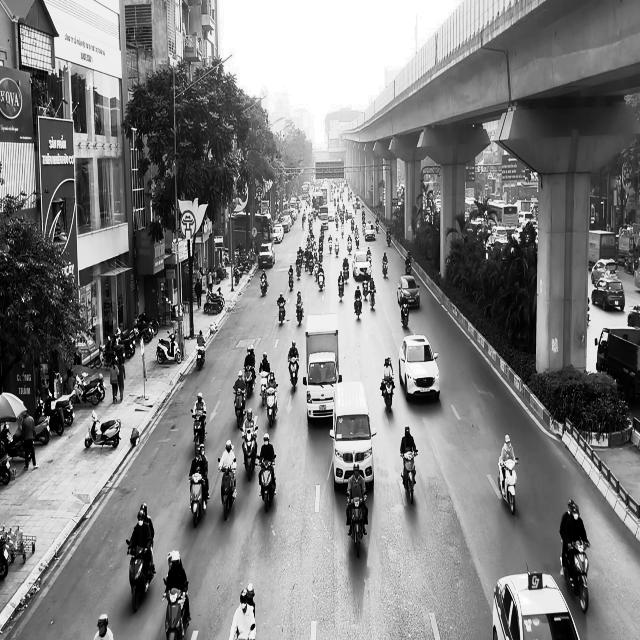car: (491, 566, 580, 640), (398, 334, 440, 402), (397, 274, 420, 309)
motorbike: (125, 537, 155, 613), (560, 538, 590, 614), (162, 576, 190, 640), (85, 410, 122, 449), (346, 494, 367, 558), (217, 457, 237, 520), (498, 457, 518, 514), (240, 418, 258, 480), (188, 472, 208, 527), (257, 456, 276, 512), (400, 449, 418, 504), (156, 329, 182, 364), (190, 408, 206, 454), (232, 386, 245, 428), (266, 383, 278, 428), (381, 377, 394, 412), (244, 364, 255, 398), (288, 355, 298, 390), (259, 371, 269, 406), (195, 341, 206, 370), (400, 302, 409, 328), (277, 300, 286, 326), (295, 300, 304, 326), (354, 294, 362, 320), (260, 276, 268, 297), (337, 278, 344, 301), (382, 258, 388, 278), (288, 272, 294, 290)
truck: (303, 313, 341, 422)
